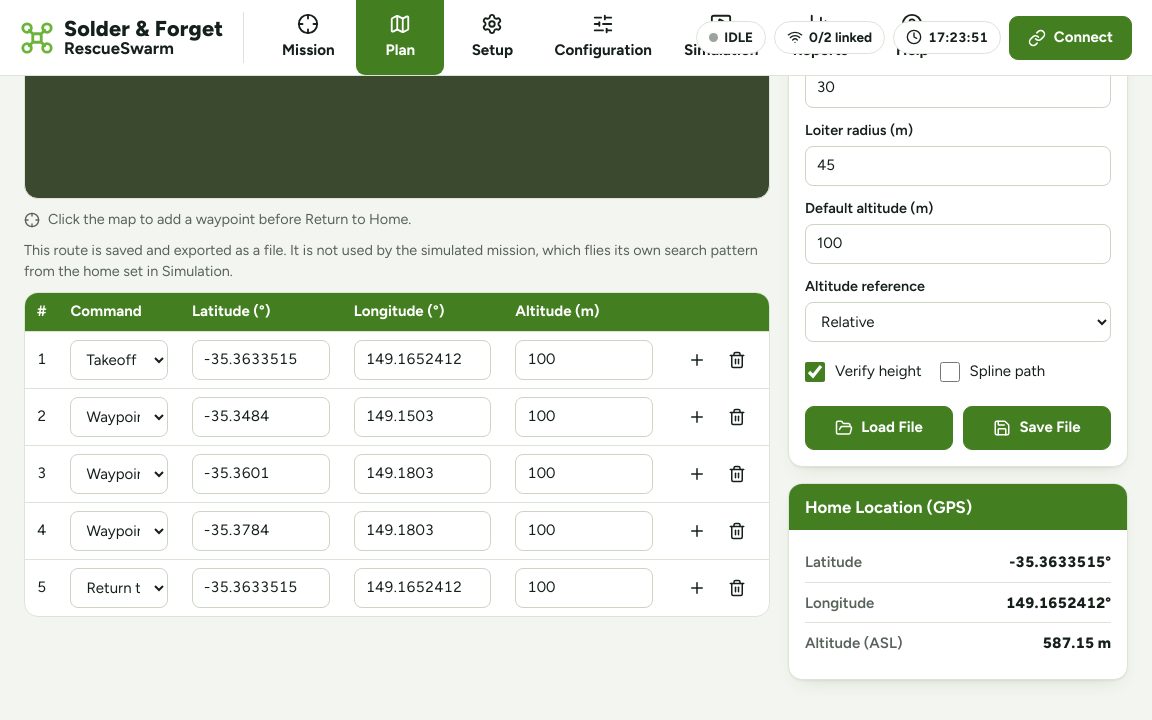
Plan › U23 in the UI: an impossible latitude shows an error and keeps the old value
(page scrolled)
Replace the text in the field named "Latitude, row 2" with "500" at point(261, 417), box [192, 397, 330, 437]
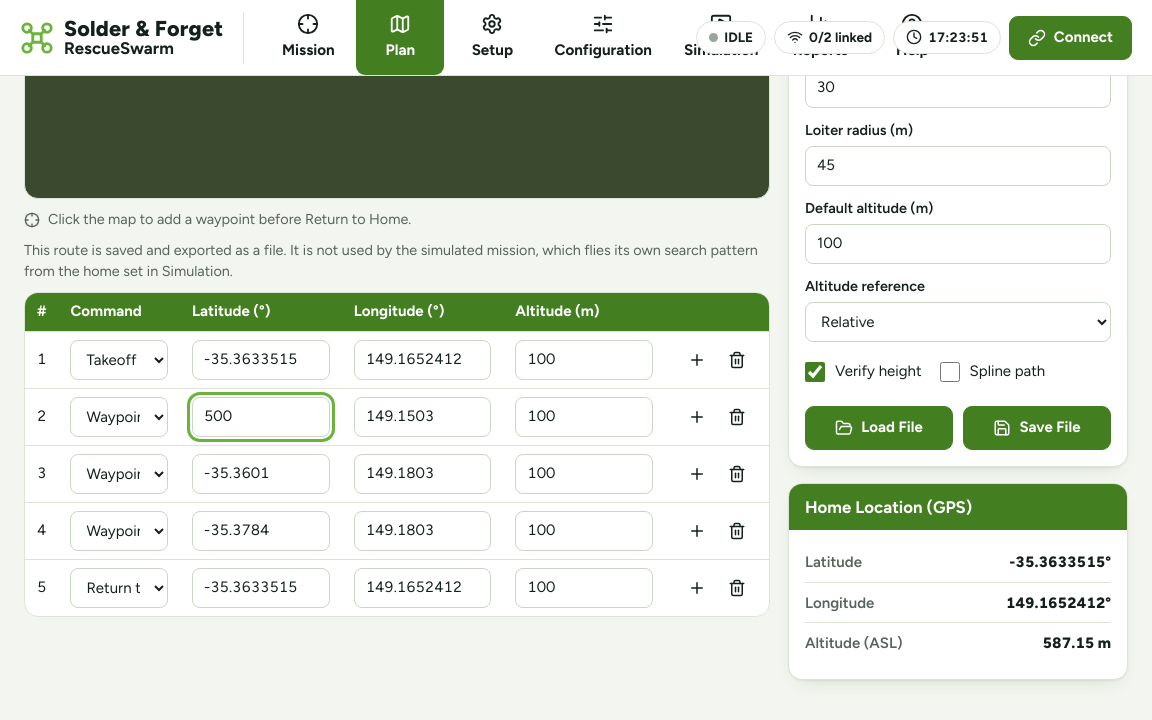
Press Tab
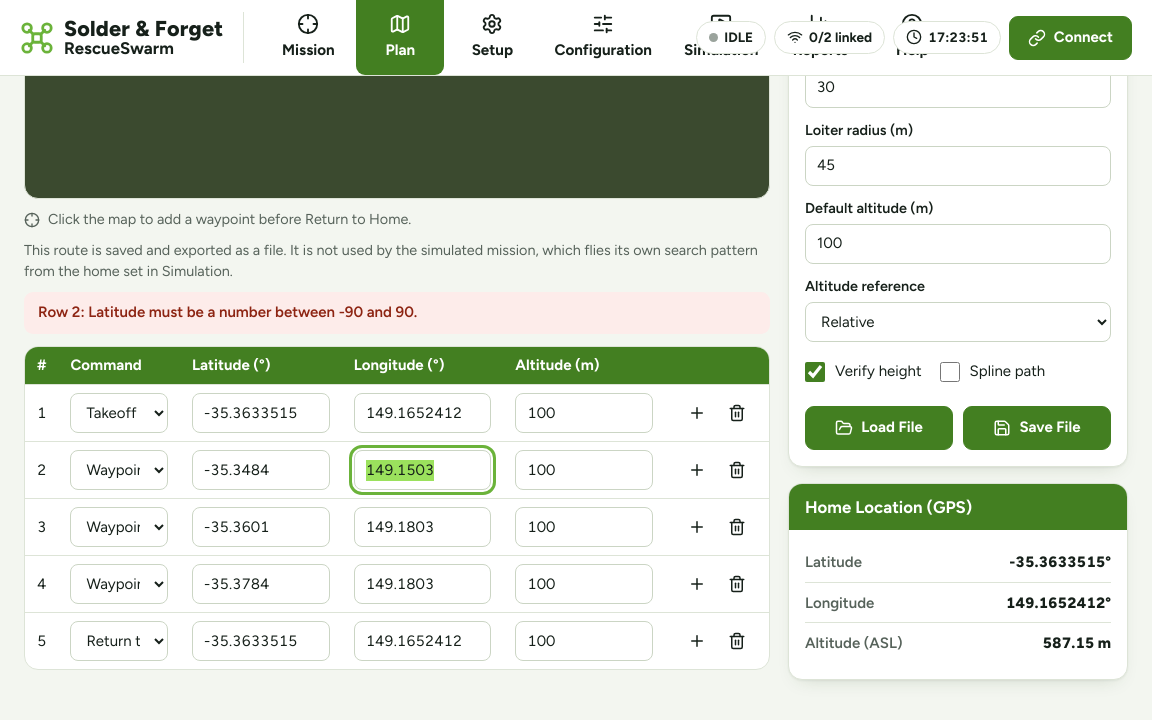
Expected: the message shows "Latitude", [38, 303, 417, 321]
Expected: the field named "Latitude, row 2" holds "-35.3484", [192, 450, 330, 490]
